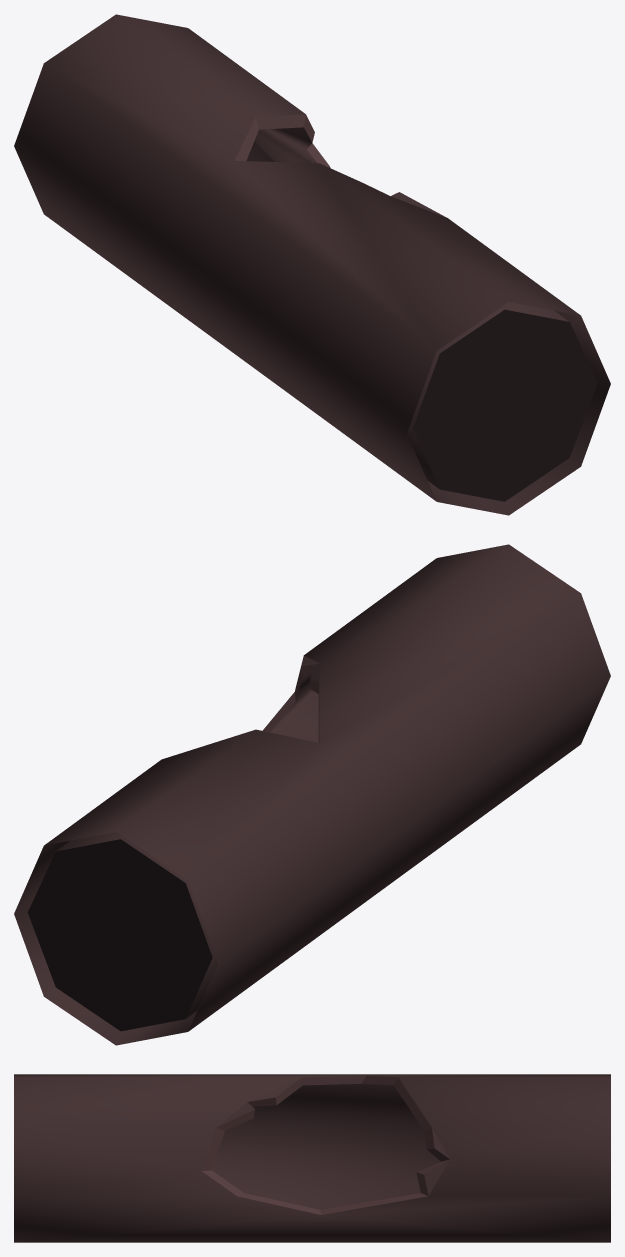
File: SW_ENV_PipeStraight_Broken_01.fbx
3 renders of one model, top to bottom at view 1: azimuth 30°, elevation 25°; view 2: azimuth 150°, elevation 25°; view 3: azimuth 270°, elevation 25°, orthographic. The views are drawn at different scales.
Visible parts, largest first — view 1: SW_ENV_PipeStraight_Broken_01; view 2: SW_ENV_PipeStraight_Broken_01; view 3: SW_ENV_PipeStraight_Broken_01.
Part boxes in pixels (left/top/right/bottom): SW_ENV_PipeStraight_Broken_01: left=14, top=14, right=610, bottom=515; SW_ENV_PipeStraight_Broken_01: left=14, top=544, right=610, bottom=1045; SW_ENV_PipeStraight_Broken_01: left=14, top=1074, right=610, bottom=1242.
Size of the model in its own units: 0.15 by 0.15 by 0.5.
